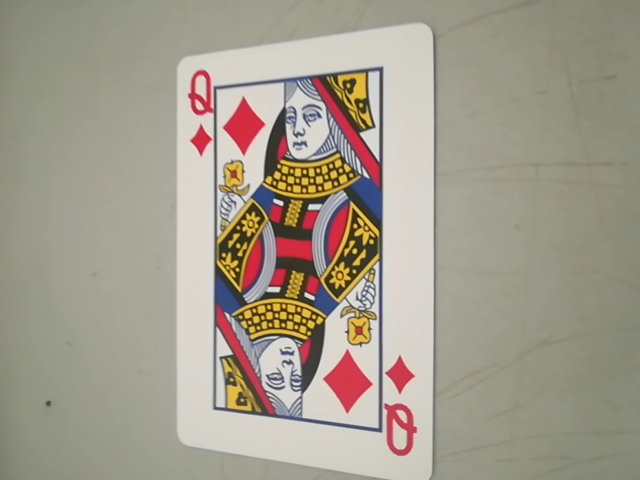fk q: (384, 356, 422, 465), (181, 61, 212, 161)
